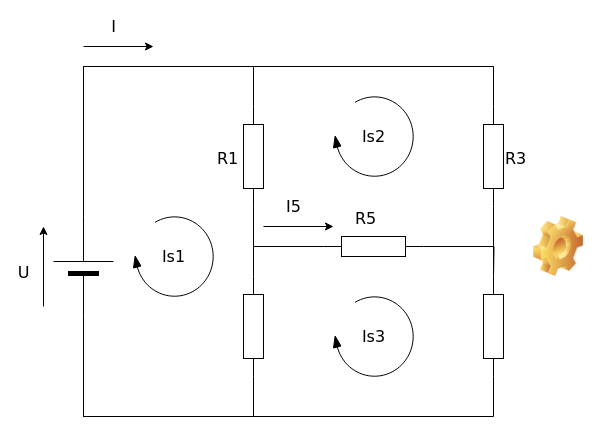
The diagram is 600 pixels wide and 435 high, and some of its shapes have lost their labels. The shapes that lost their labels are listed below. From the top down, each one's centre as x and y in pixels, then its label:
At point (253, 326): "R2".
At point (493, 326): "R4".
